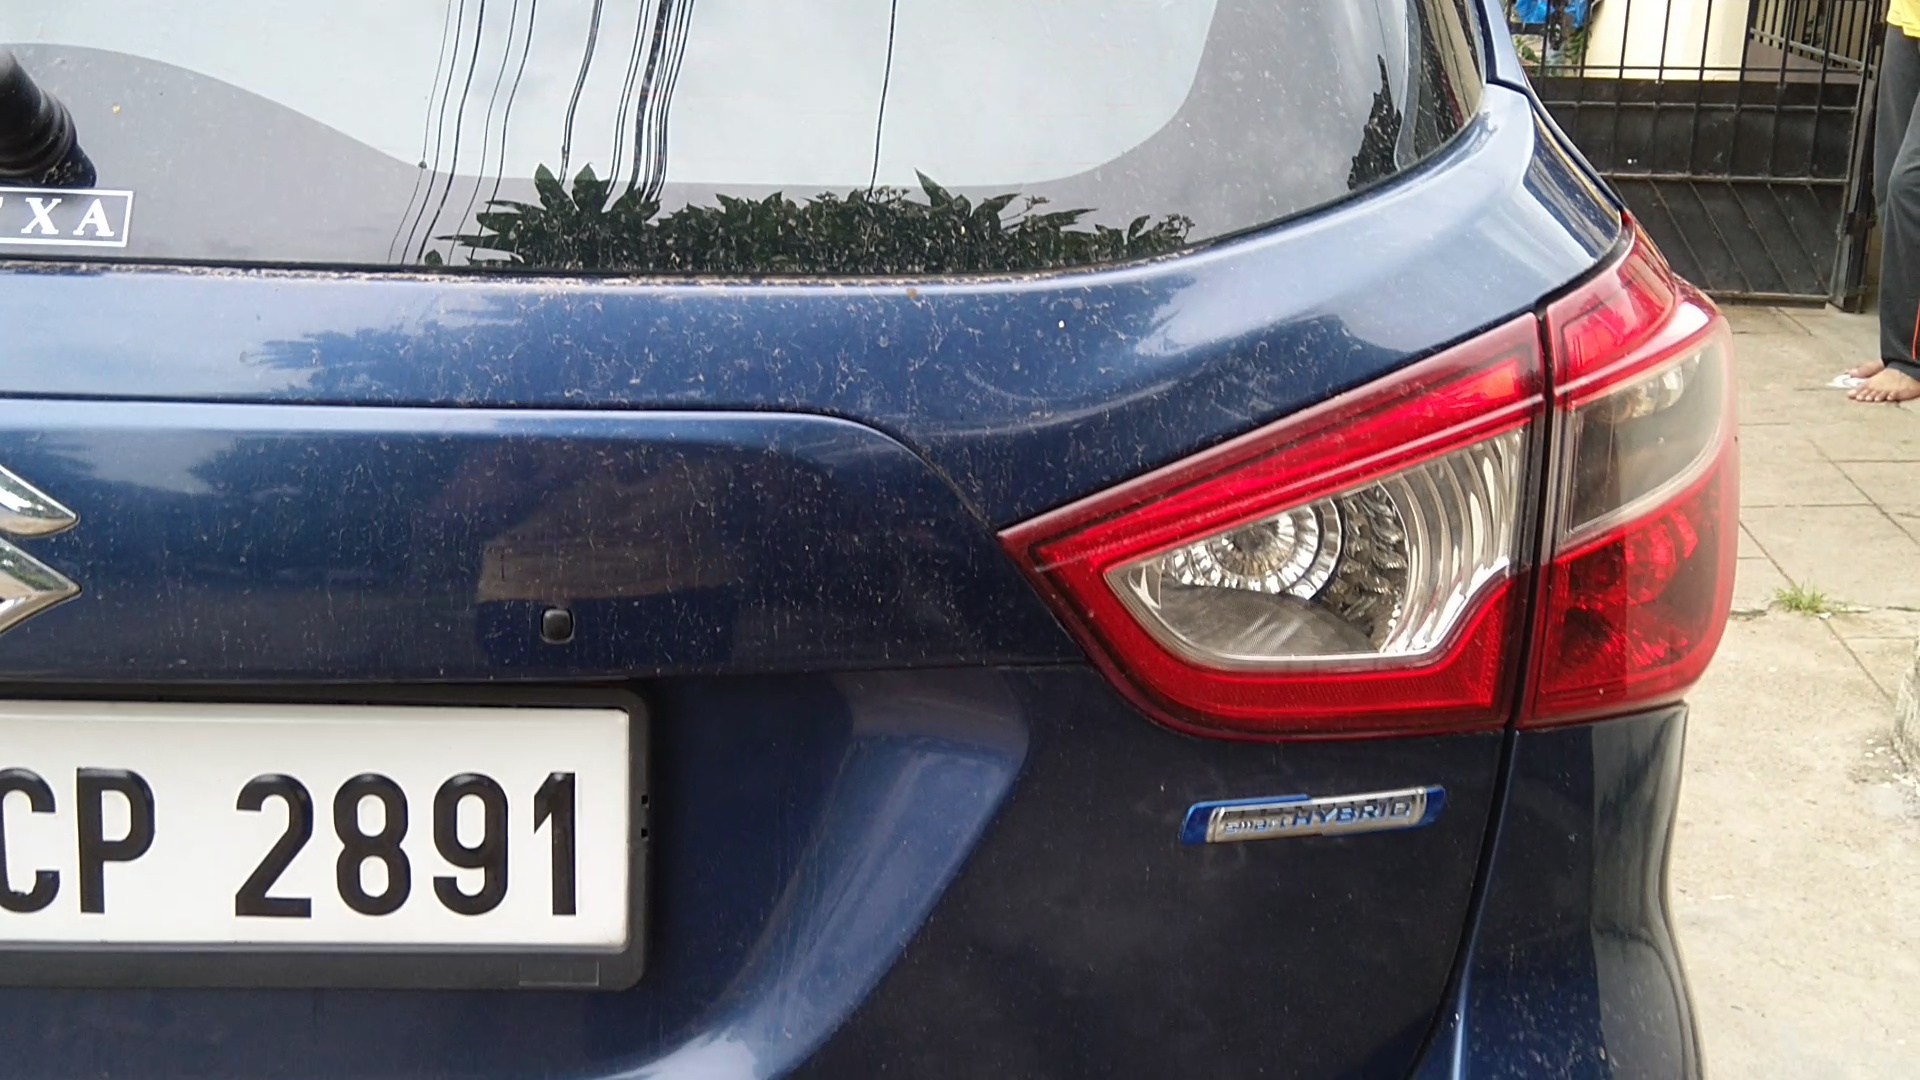shvs: (1164, 764, 1476, 881)
